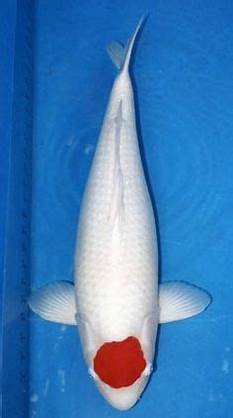sun: (25, 13, 212, 411)
